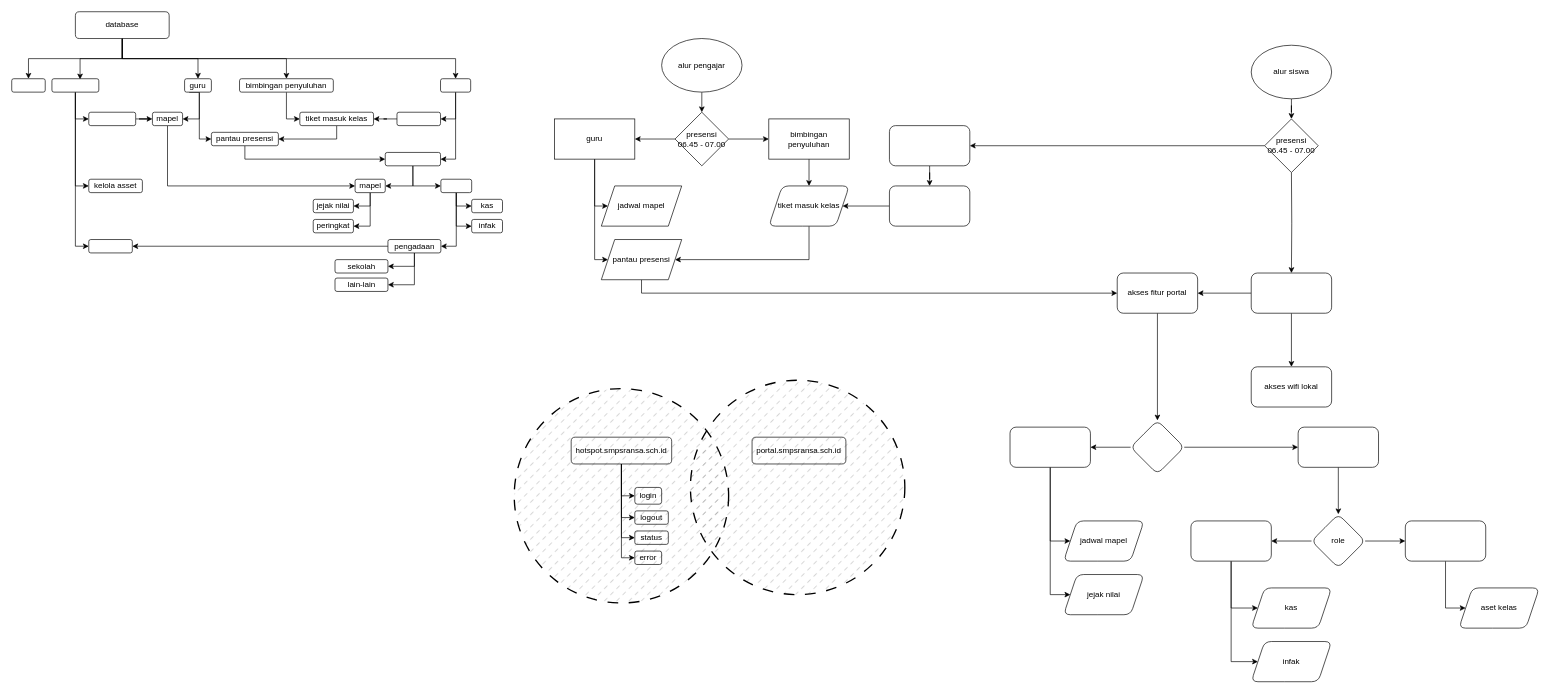
The diagram is 1551 pixels wide and 693 high, and some of its shapes have lost their labels. Here are the shapes that lost their labels. From the top down, the centre of each, then its label:
At point 28,85: "kepala".
At point 75,85: "tata usaha".
At point 455,85: "siswa".
At point 112,119: "data mapel".
At point 418,119: "presensi".
At point 413,159: "portal dan wifi".
At point 929,145: "block wifi dan portal".
At point 456,186: "iuran".
At point 929,205: "tiket terlambat".
At point 110,246: "keuangan".
At point 1291,292: "interface".
At point 1049,446: "murid".
At point 1157,447: "jenis".
At point 1338,446: "pengurus".
At point 1230,540: "bendahara".
At point 1445,540: "sekretaris".
